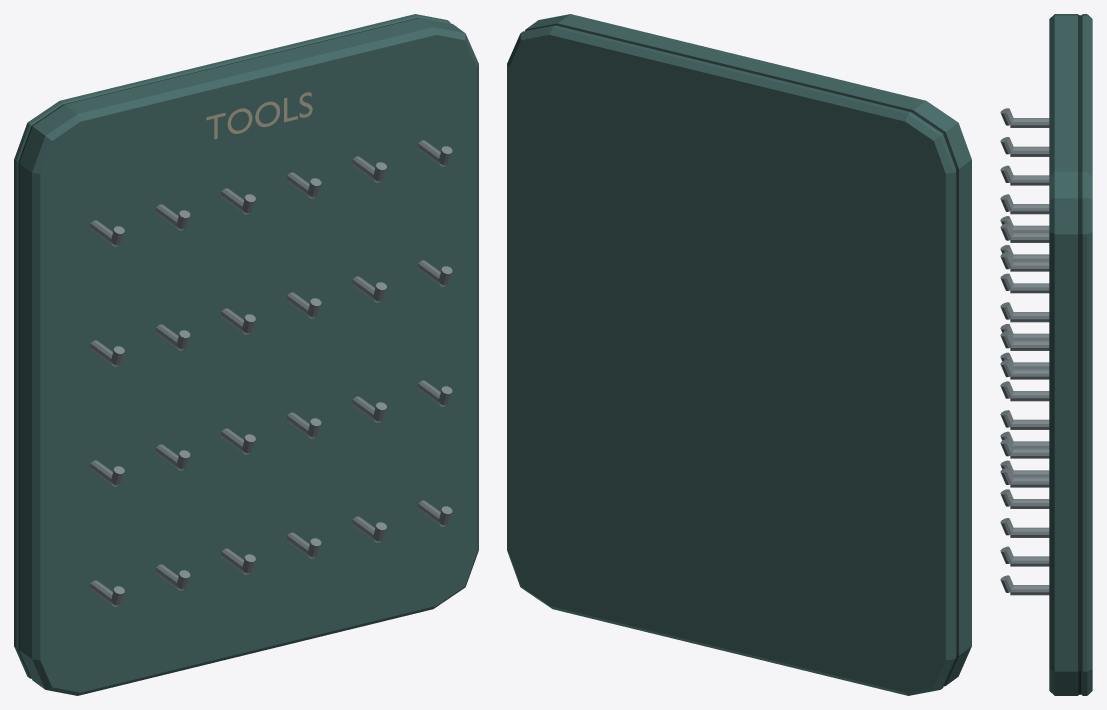
The model's file is F-10_hook_board.glb.
3 renders of one model, left to right at view 1: azimuth 30°, elevation 25°; view 2: azimuth 150°, elevation 25°; view 3: azimuth 270°, elevation 25°, orthographic. The views are drawn at different scales.
Parts seen in each view (by area): view 1: F-10_hook_board; view 2: F-10_hook_board; view 3: F-10_hook_board.
Boxes of the visible parts, x1=… form: F-10_hook_board: x1=14, y1=14, x2=478, y2=695; F-10_hook_board: x1=507, y1=14, x2=971, y2=695; F-10_hook_board: x1=1000, y1=14, x2=1092, y2=695.
Bounding box in the file's own units: 0.9 × 1.12 × 0.1793.
